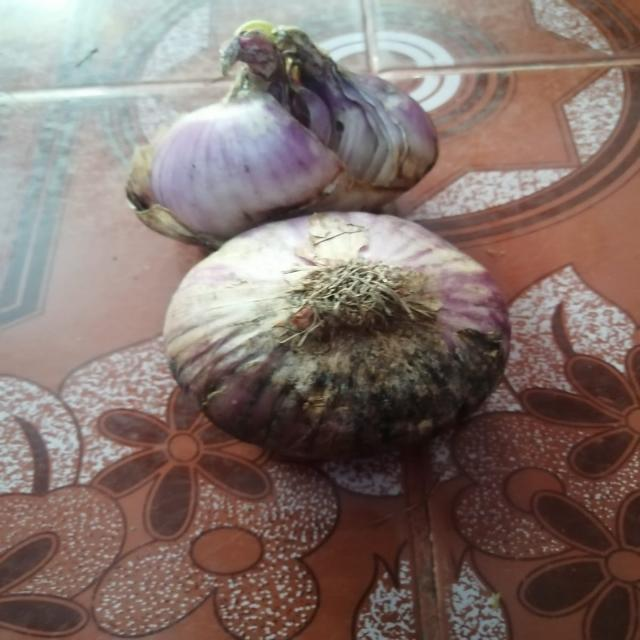rotten: (325, 348, 493, 427), (301, 96, 394, 184)
sprouting: (229, 30, 328, 84)
